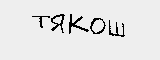К: (69, 13, 88, 34)
О: (89, 17, 105, 36)
Т: (33, 15, 48, 28)
Ш: (108, 21, 127, 36)
Я: (49, 14, 66, 34)
